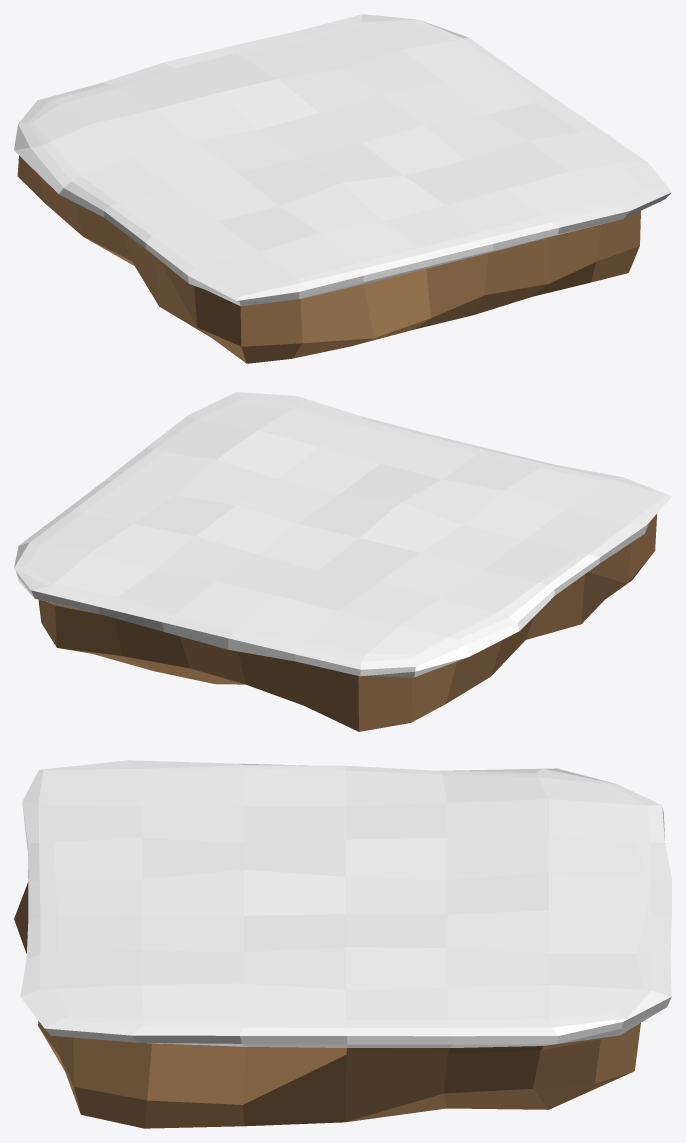
File: SnowIslandPlanetoid.fbx
3 views of the same model, one above another, from view 1: azimuth 30°, elevation 25°; view 2: azimuth 150°, elevation 25°; view 3: azimuth 270°, elevation 25° (orthographic). The views are drawn at different scales.
Visible parts, largest first — view 1: IslandBase; view 2: IslandBase; view 3: IslandBase.
Part boxes in pixels (x1=…): IslandBase: x1=14, y1=14, x2=671, y2=363; IslandBase: x1=14, y1=392, x2=671, y2=731; IslandBase: x1=14, y1=760, x2=671, y2=1128.
Size of the model in its own units: 1598 by 372 by 1619.
